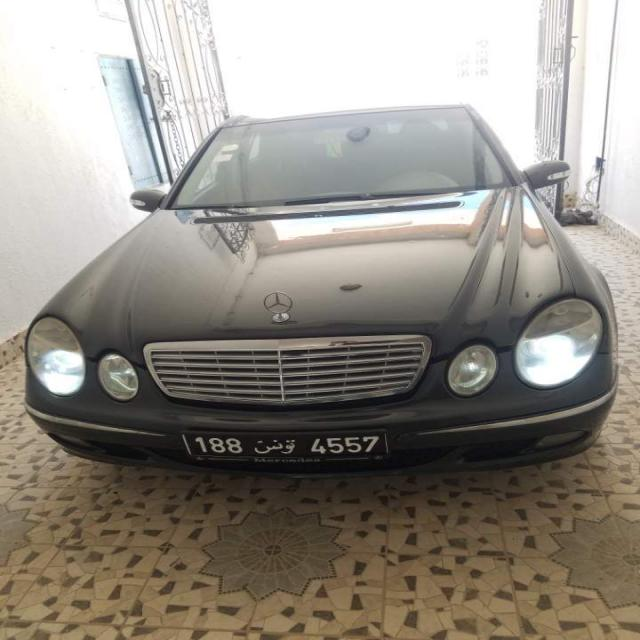LP: (182, 429, 384, 457)
